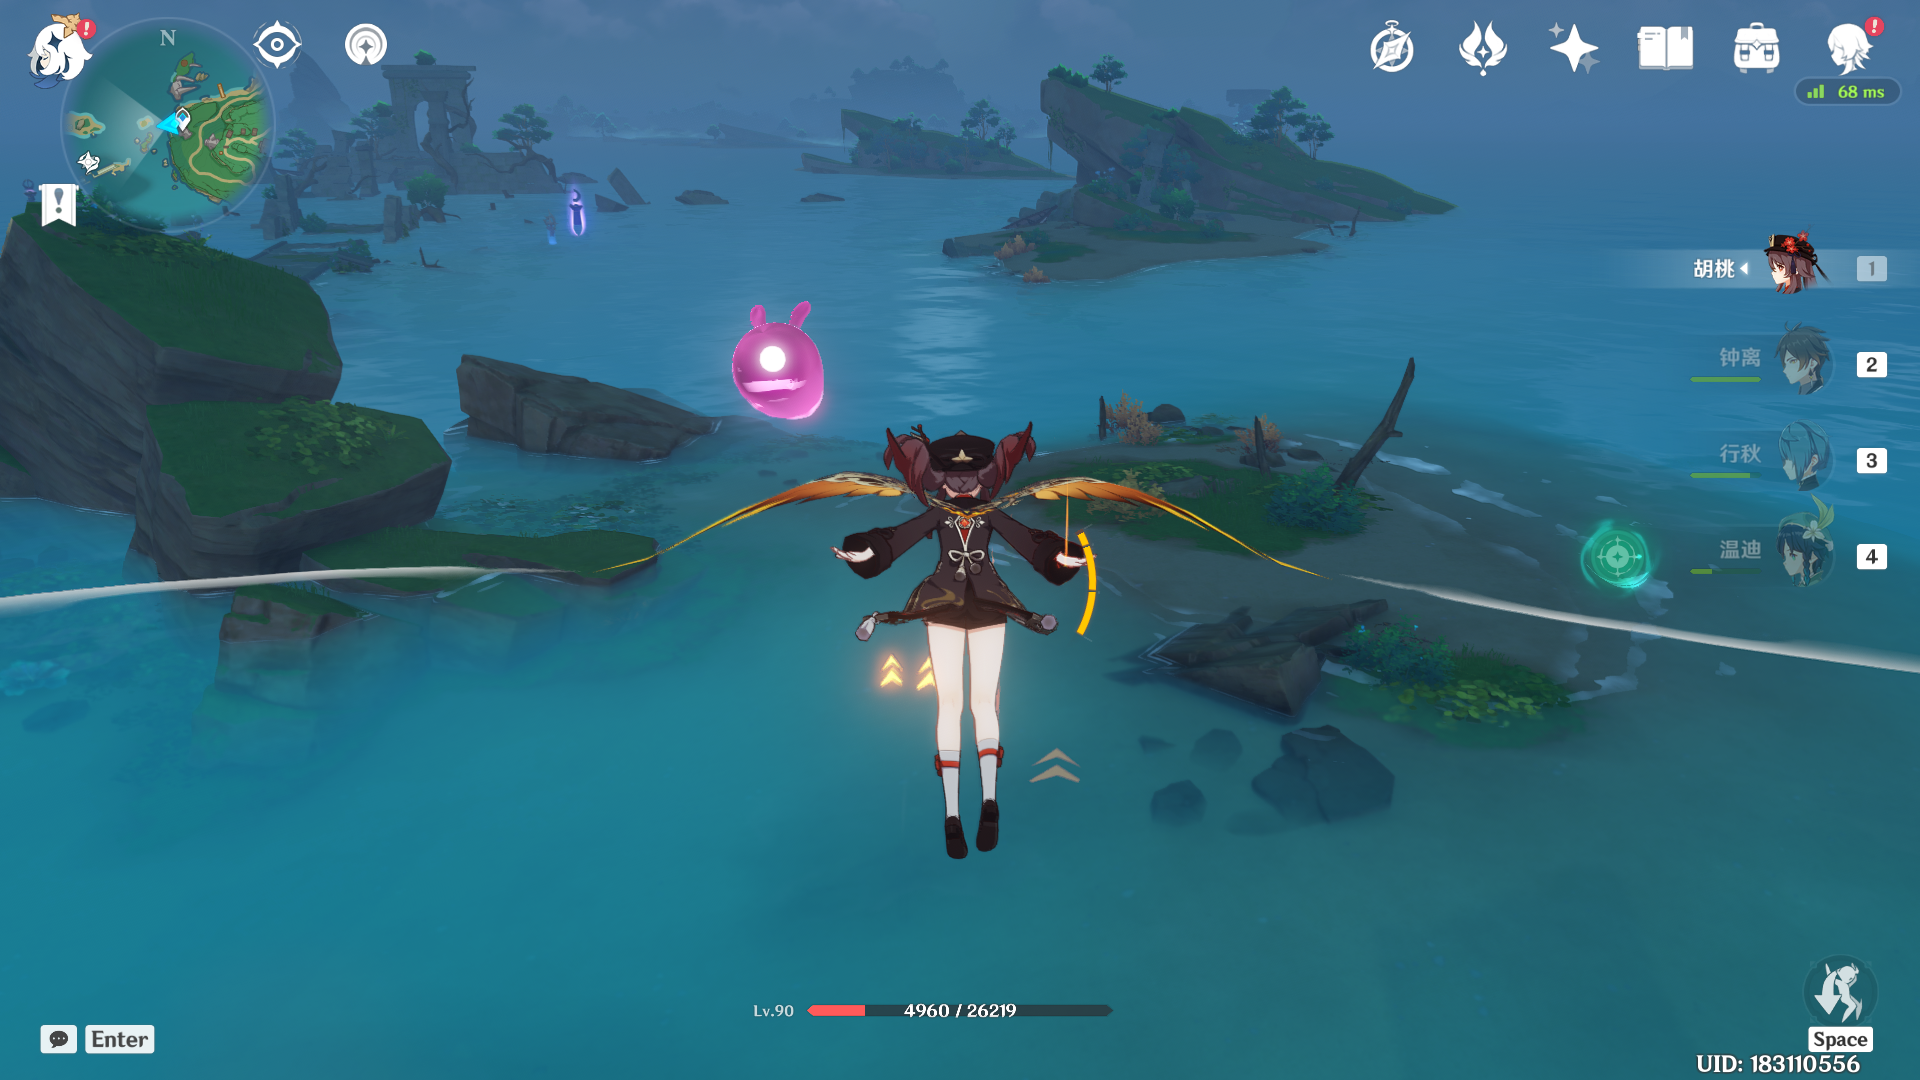character: (815, 411, 1112, 882)
